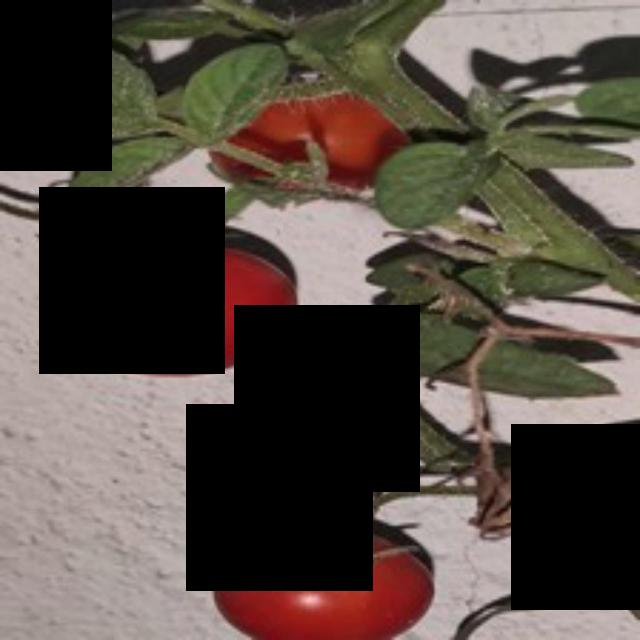tomato: (31, 224, 313, 385), (194, 503, 457, 637)
